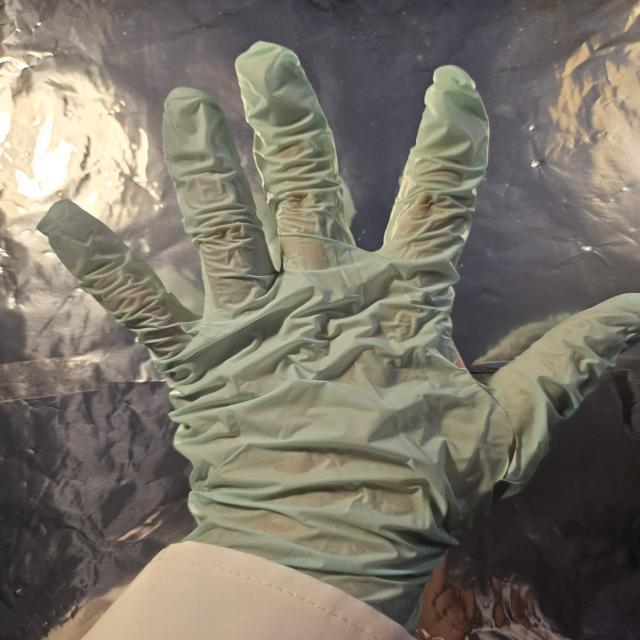gloves_damaged: (32, 40, 640, 624)
